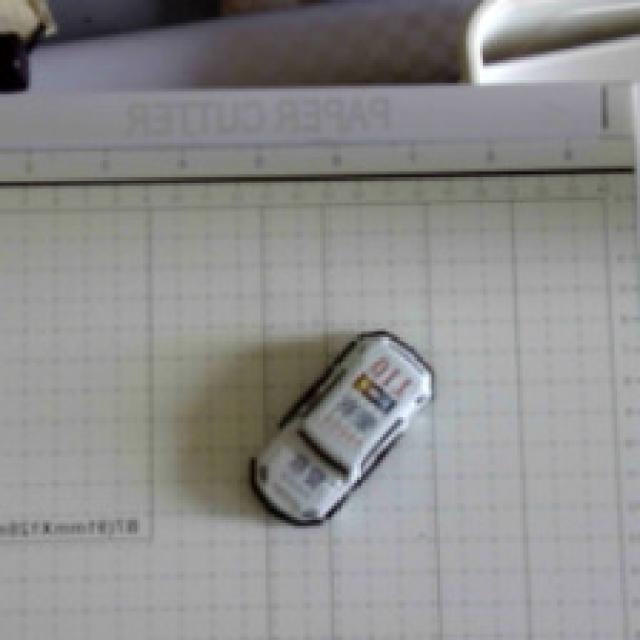Grey Car: (221, 266, 458, 550)
